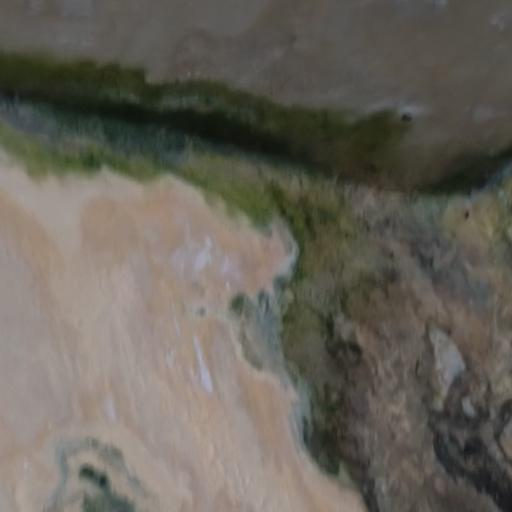algae: (3, 35, 512, 494)
